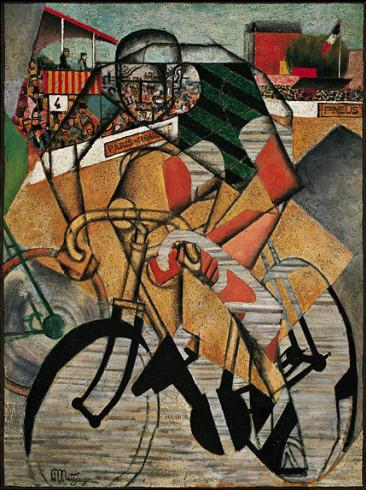person: (33, 26, 304, 474)
